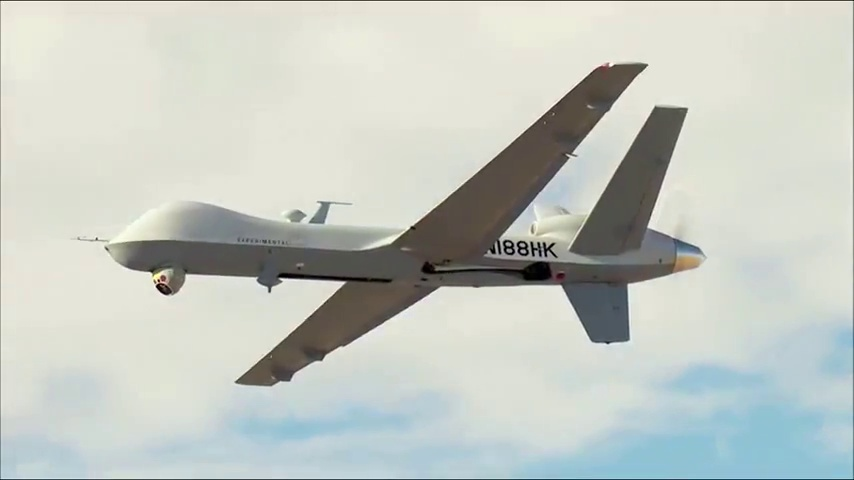military drone: (72, 62, 708, 386)
